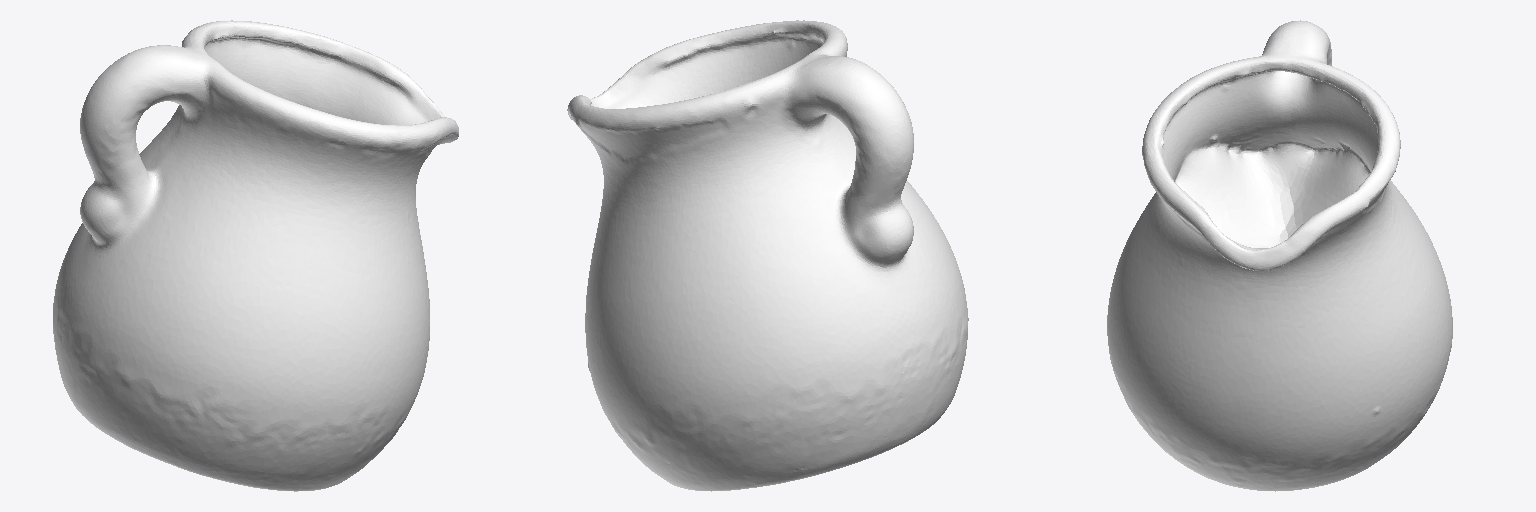
robot.urdf — model.urdf:
<robot name="model.urdf">
    <link name="baseLink">
        <contact>
            <lateral_friction value="0.42"/>
            <rolling_friction value="1"/>
            <spinning_friction value="1"/>
            <contact_cfm value="0.0"/>
            <contact_erp value="1.0"/>
        </contact>
        <inertial>
            <origin rpy="0.298 -0.05 1.6" xyz="0.00 0.00 -0.05"/>
            <mass value="1.1"/>
            <inertia ixx="1e-3" ixy="0" ixz="0" iyy="1e-3" iyz="0" izz="1e-3"/>
        </inertial>
        <visual>
            <geometry>
                <mesh filename="nontextured.stl" scale="1 1 1"/>
            </geometry>
            <material name="white">
                <color rgba="1 1 1 1"/>
            </material>
        </visual>
        <collision>
            <geometry>
                <mesh filename="nontextured.stl" scale="1 1 1"/>
            </geometry>
        </collision>
    </link>
</robot>

--- Facts derived from the render (not from the file) ---
3 views of the same robot in one strip: view 1: azimuth 30°, elevation 25°; view 2: azimuth 150°, elevation 25°; view 3: azimuth 270°, elevation 25° (orthographic).
Robot: model.urdf — 1 links, 0 joints (none); root link baseLink; default pose: every joint at zero.
Visible links, largest first — view 1: baseLink; view 2: baseLink; view 3: baseLink.
Boxes of the visible links, x1,y1,x2,y2 form: baseLink: (53, 20, 458, 491); baseLink: (567, 20, 968, 491); baseLink: (1107, 20, 1452, 491).
Size in the robot's own frame: 0.155 by 0.1408 by 0.1768 metres.
Meshes: 1 distinct files referenced, 1 mesh visuals loaded (1 binary STL).